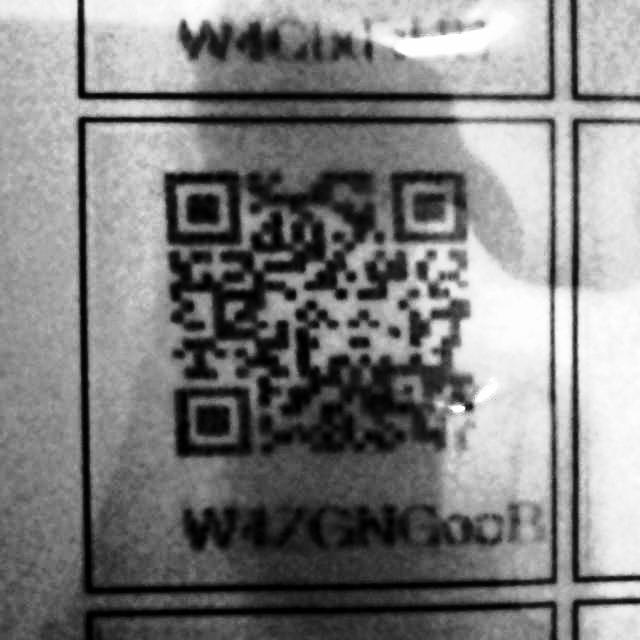qr_code: (148, 151, 512, 480)
